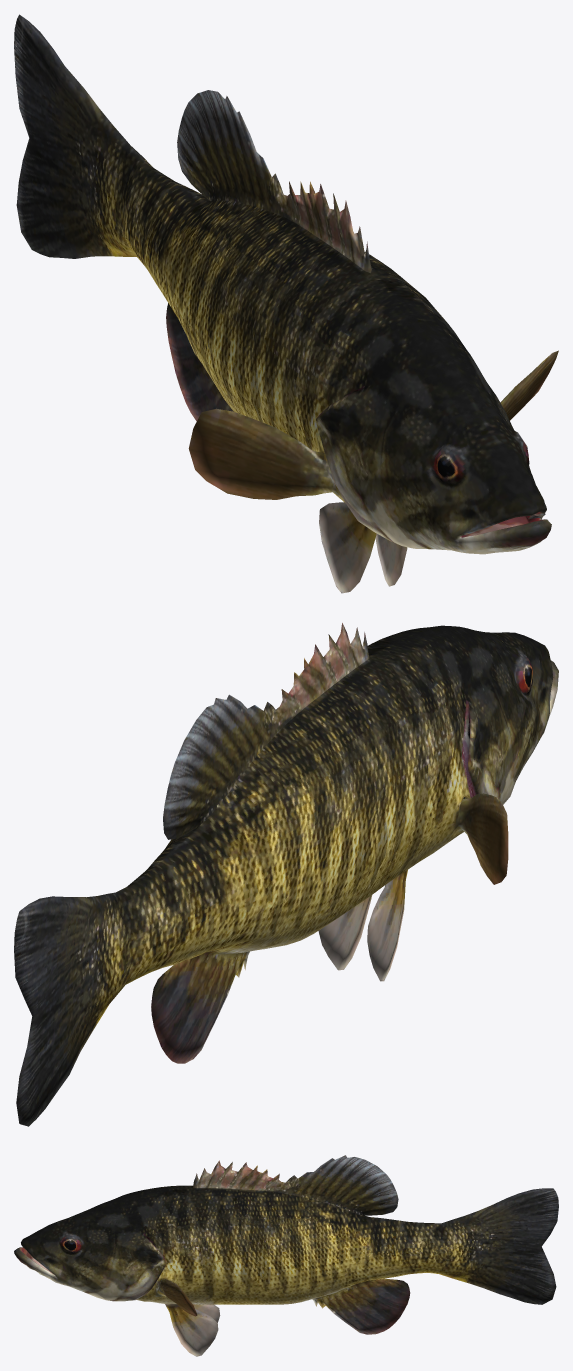
The model's file is fish1.fbx.
The picture shows the model from 3 angles, top to bottom: view 1: azimuth 30°, elevation 25°; view 2: azimuth 150°, elevation 25°; view 3: azimuth 270°, elevation 25°; orthographic projection. The views are drawn at different scales.
Parts seen in each view (by area): view 1: 5914cd80-a80c-4999-8fa2-76dbb8f56a7f; view 2: 5914cd80-a80c-4999-8fa2-76dbb8f56a7f; view 3: 5914cd80-a80c-4999-8fa2-76dbb8f56a7f.
Boxes of the visible parts, box(x1,y1,x2,y2) form: 5914cd80-a80c-4999-8fa2-76dbb8f56a7f: box(14, 14, 558, 593); 5914cd80-a80c-4999-8fa2-76dbb8f56a7f: box(14, 623, 558, 1126); 5914cd80-a80c-4999-8fa2-76dbb8f56a7f: box(14, 1155, 558, 1356).
Bounding box in the file's own units: 13.01 × 14.13 × 35.28.
Materials: 1 (1 with a texture image).
